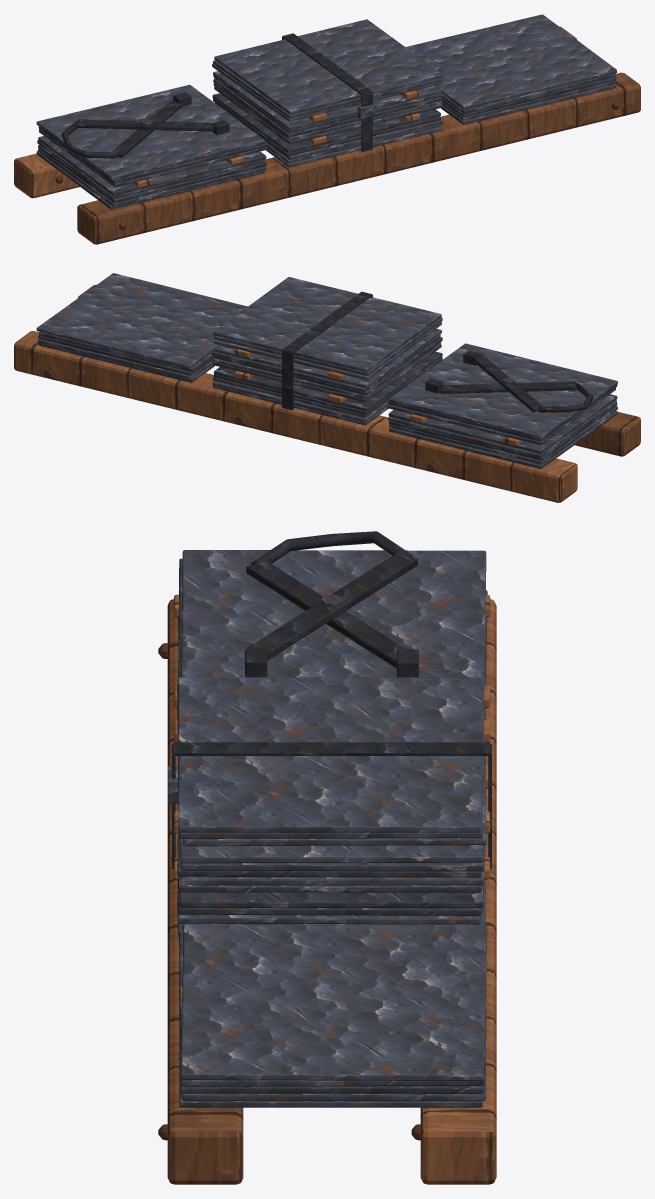
File: hw_plate_stack.glb
3 views of the same model, one above another, from view 1: azimuth 30°, elevation 25°; view 2: azimuth 150°, elevation 25°; view 3: azimuth 270°, elevation 25° (orthographic). The views are drawn at different scales.
Visible parts, largest first — view 1: model; view 2: model; view 3: model.
Boxes of the visible parts, x1,y1,x2,y2 form: model: [14, 14, 640, 244]; model: [14, 273, 640, 502]; model: [158, 531, 496, 1184].
Size of the model in its own units: 2 by 0.3015 by 0.5344.
Materials: 8 (8 with a texture image).
